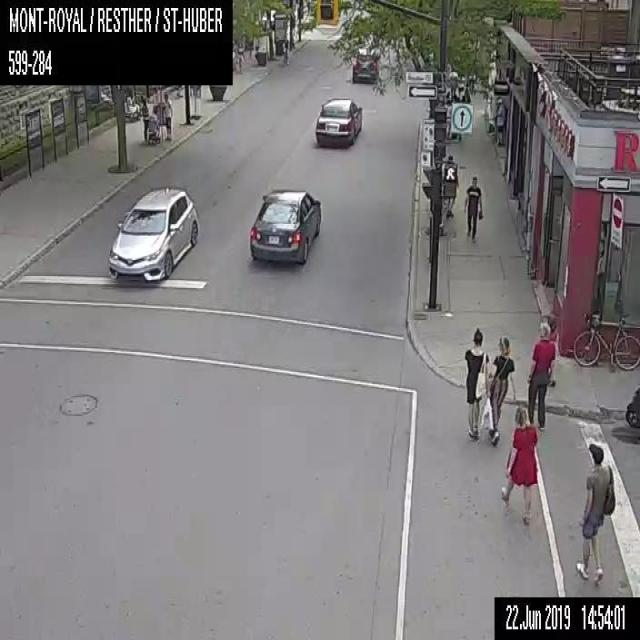pedestrian: (574, 442, 616, 586), (501, 404, 537, 526), (526, 321, 556, 429), (463, 326, 489, 440), (490, 335, 516, 446), (462, 175, 482, 243), (138, 93, 159, 145), (444, 155, 458, 216), (162, 93, 173, 140)
vehicle: (106, 188, 198, 283), (249, 188, 321, 263), (314, 99, 362, 148), (351, 48, 380, 83)
